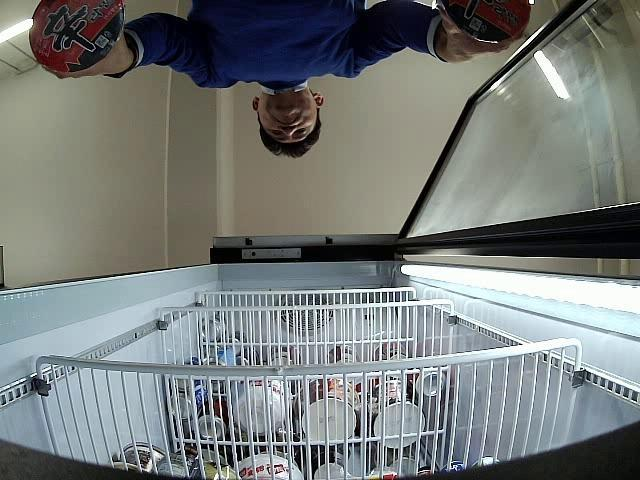01_ShinRamen_L: (29, 0, 126, 73), (440, 0, 530, 43)
